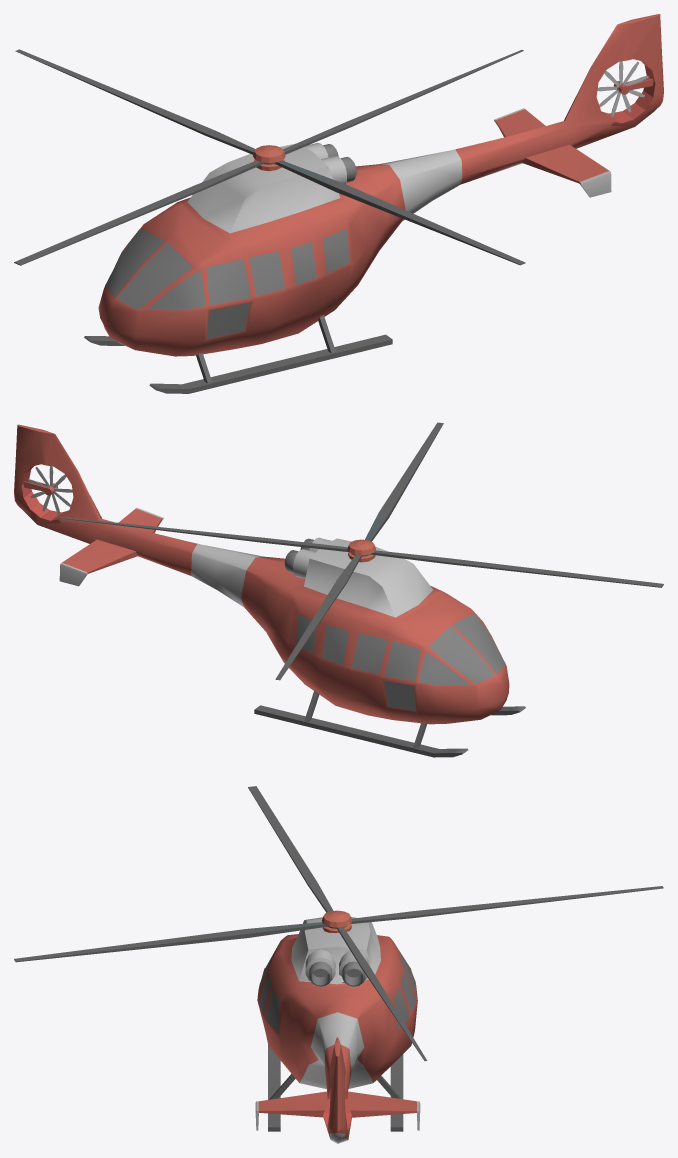
File: helicopter.glb
3 renders of one model, top to bottom at view 1: azimuth 30°, elevation 25°; view 2: azimuth 150°, elevation 25°; view 3: azimuth 270°, elevation 25°, orthographic. The views are drawn at different scales.
Visible parts, largest first — view 1: Copter, Propeller_2, Legs, Propeller, Cylinder; view 2: Copter, Propeller_2, Legs, Propeller, Cylinder; view 3: Copter, Propeller_2, Legs.
Part boxes in pixels (left/top/right/bottom): Copter: left=98, top=14, right=663, bottom=356; Propeller_2: left=14, top=49, right=525, bottom=265; Legs: left=84, top=315, right=392, bottom=393; Propeller: left=597, top=61, right=647, bottom=116; Cylinder: left=602, top=61, right=655, bottom=123; Copter: left=14, top=424, right=509, bottom=724; Propeller_2: left=55, top=422, right=663, bottom=680; Legs: left=254, top=690, right=525, bottom=757; Propeller: left=28, top=466, right=72, bottom=515; Cylinder: left=21, top=466, right=68, bottom=520; Copter: left=255, top=917, right=420, bottom=1143; Propeller_2: left=14, top=786, right=663, bottom=1060; Legs: left=268, top=1045, right=403, bottom=1131.
Size of the model in its own units: 25.38 by 8 by 21.96.
